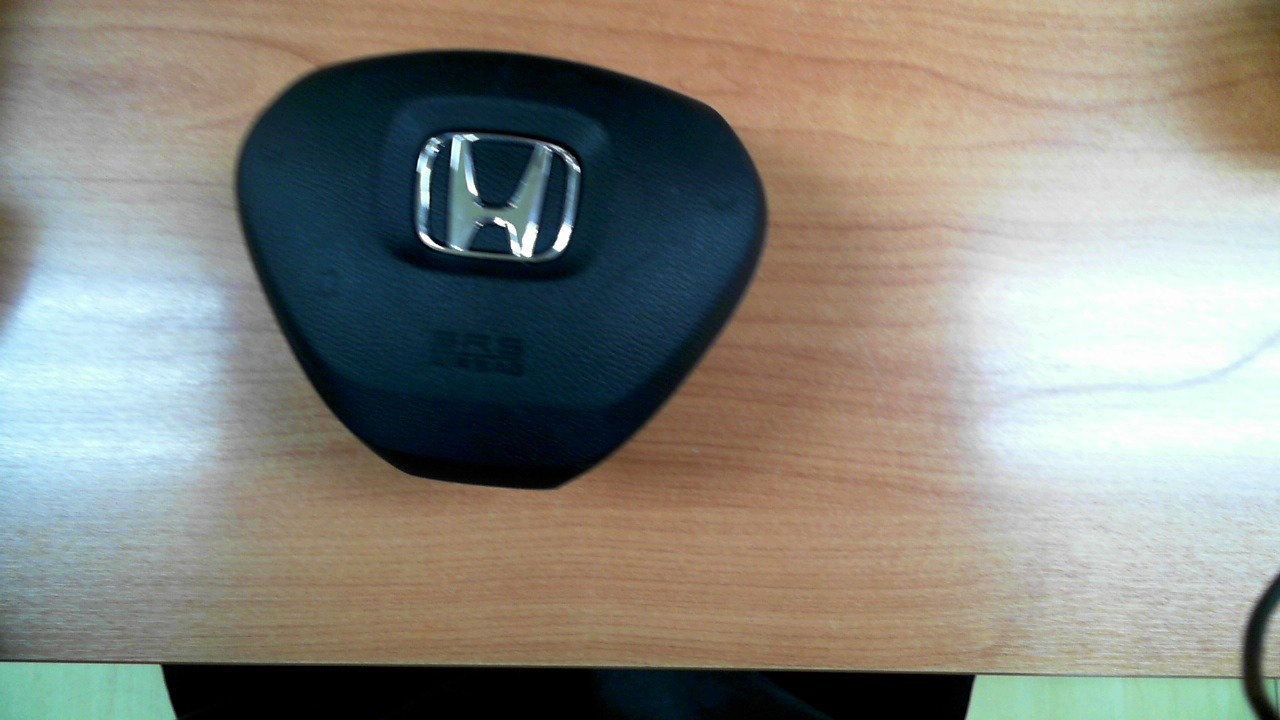Airbag: (234, 49, 769, 492)
Honda: (416, 132, 582, 262)
